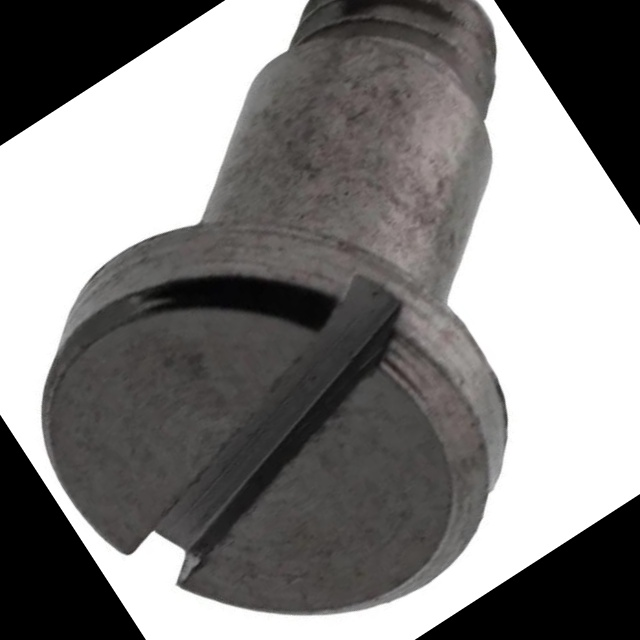duz: (0, 113, 574, 640)
